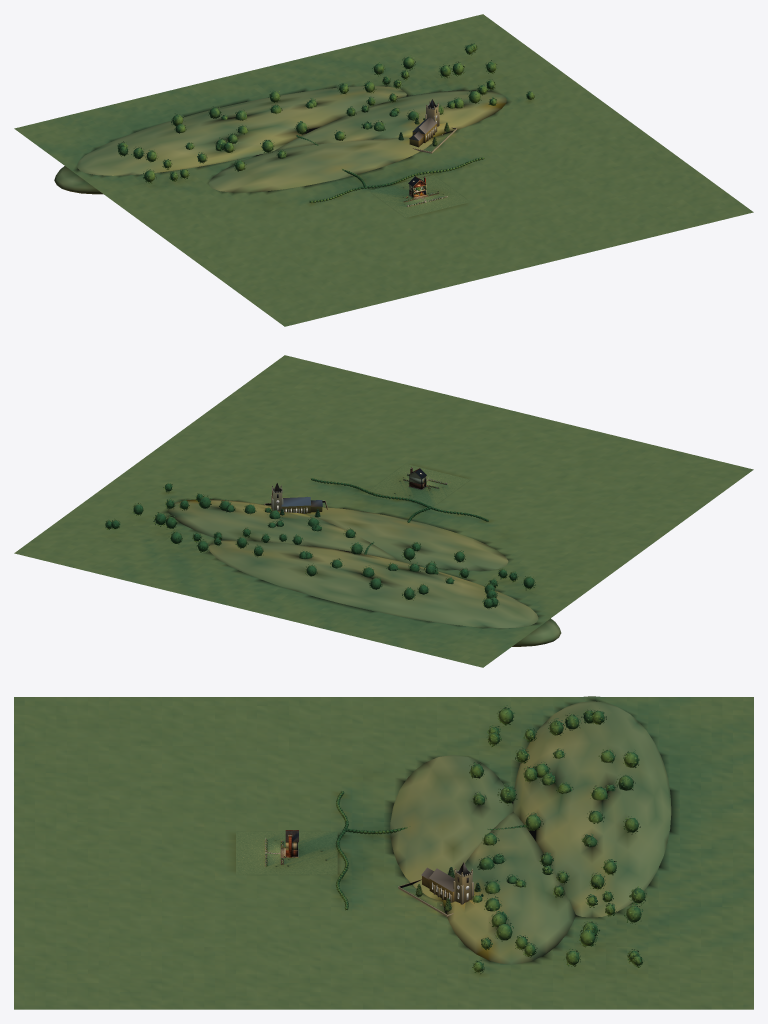
The model's file is house.glb.
3 renders of one model, top to bottom at view 1: azimuth 30°, elevation 25°; view 2: azimuth 150°, elevation 25°; view 3: azimuth 270°, elevation 25°, orthographic. The views are drawn at different scales.
Parts seen in each view (by area): view 1: outside; view 2: outside; view 3: outside.
Boxes of the visible parts, <box> form: outside: <box>14,14,753,326</box>; outside: <box>14,355,753,667</box>; outside: <box>14,696,753,1009</box>.
Bounding box in the file's own units: 331 × 43.32 × 320.
Materials: 2 (1 with a texture image).
